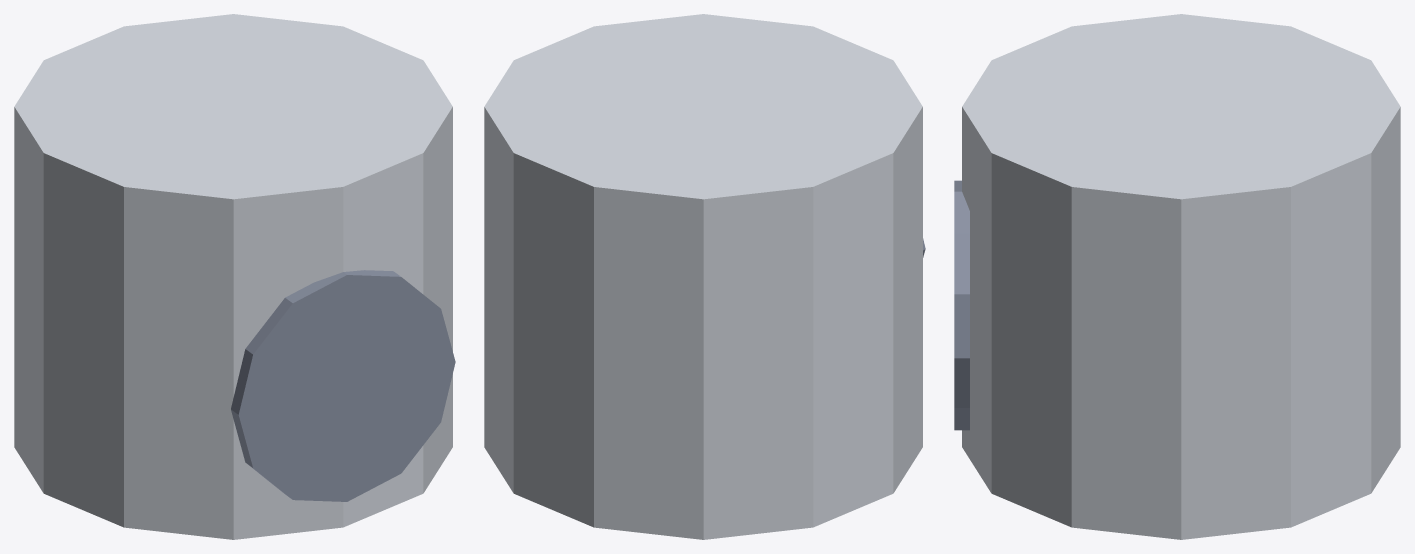
File: colony-hab-airlock.glb
3 renders of one model, left to right at view 1: azimuth 30°, elevation 25°; view 2: azimuth 150°, elevation 25°; view 3: azimuth 270°, elevation 25°, orthographic.
Visible parts, largest first — view 1: hab_airlock; view 2: hab_airlock; view 3: hab_airlock.
Part boxes in pixels (box(x1,y1,x2,y2)): hab_airlock: box(14, 14, 455, 539); hab_airlock: box(484, 14, 925, 539); hab_airlock: box(954, 14, 1400, 539).
Size of the model in its own units: 2.8 by 2.4 by 2.85.
